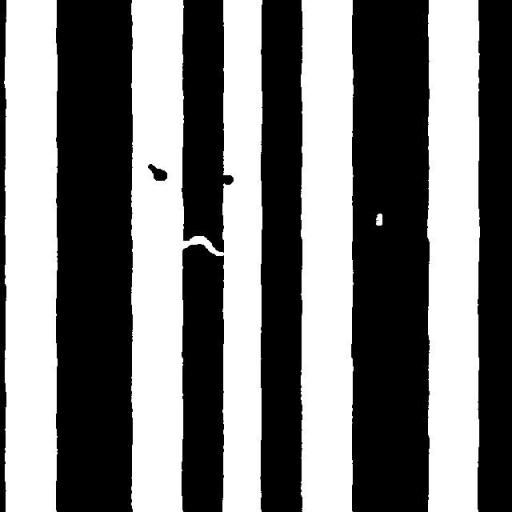copper: (140, 156, 174, 188)
open: (170, 228, 231, 263)
pin-hole: (368, 206, 390, 232)
spur: (211, 167, 241, 192)
